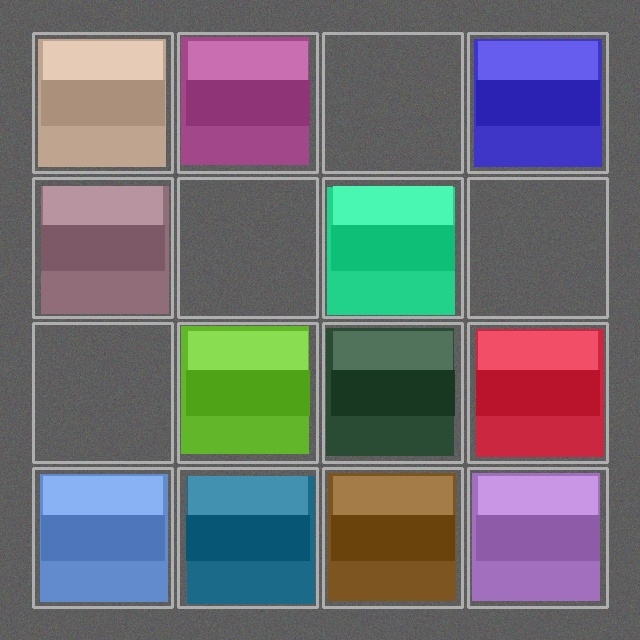space-empty: (325, 35, 460, 170), (180, 180, 315, 315), (470, 180, 605, 315), (35, 325, 170, 460)
space-occupied: (35, 35, 170, 170), (180, 35, 315, 170), (470, 35, 605, 170), (35, 180, 170, 315), (325, 180, 460, 315), (180, 325, 315, 460), (325, 325, 460, 460), (470, 325, 605, 460), (35, 470, 170, 605), (180, 470, 315, 605), (325, 470, 460, 605), (470, 470, 605, 605)
